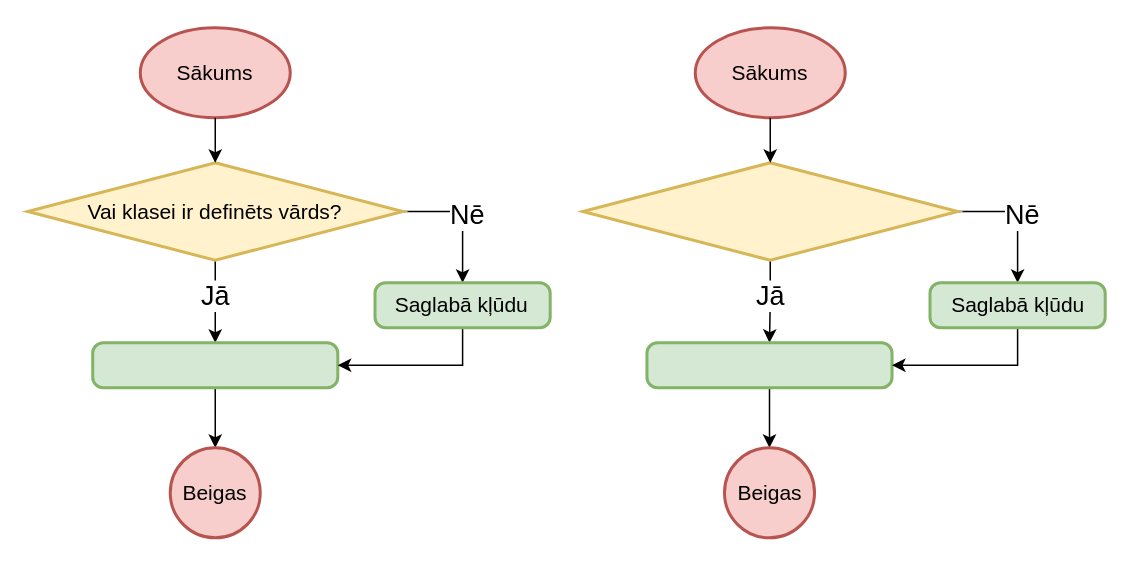
Some shapes in this 1133 by 564 pixel diagram are drawn without their labels. Here are the shapes that lost their labels. From the top down, the centre of each, then its label:
At (769,210): "Vai klasei ir definēts virsklases vārds?".
At (214,364): "Apstaigā klases vārdu".
At (769,364): "Apstaigā virsklases vārdu".
